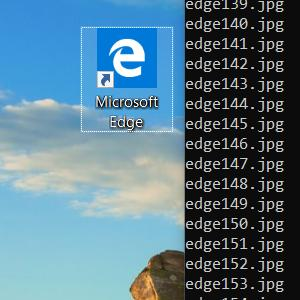edge: (96, 28, 157, 88)
